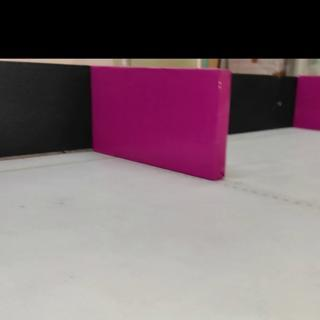xparking: (93, 70, 227, 174), (300, 75, 320, 129)
